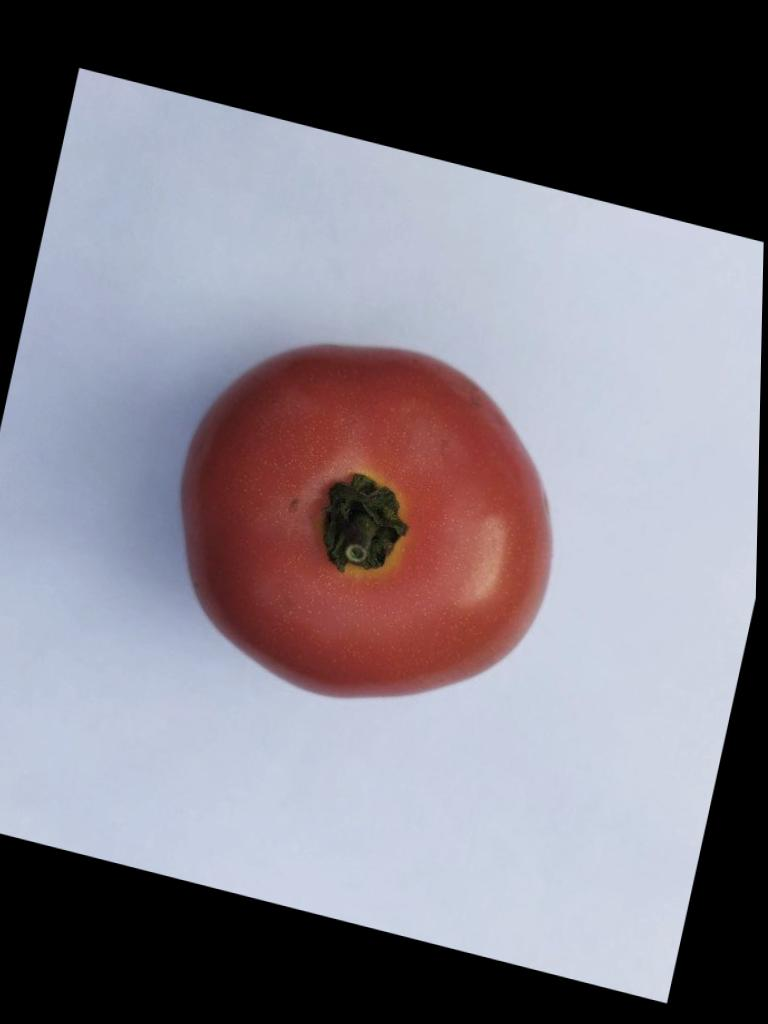tomato: (183, 344, 551, 695)
